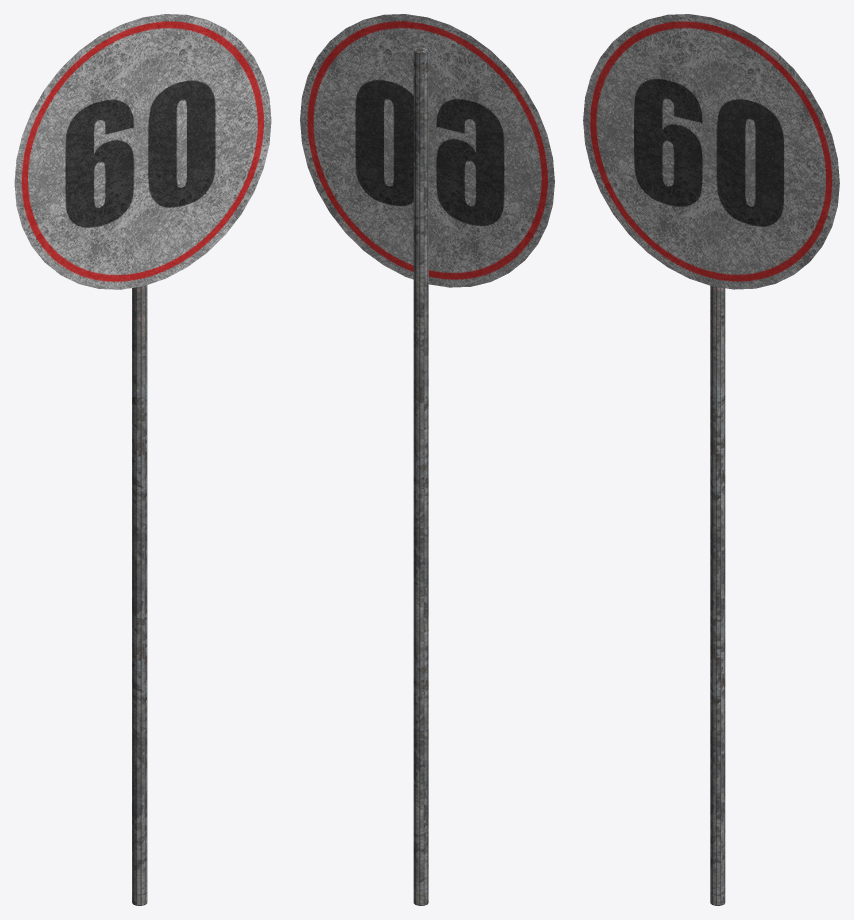
File: bienbao.fbx
The picture shows the model from 3 angles, left to right: view 1: azimuth 30°, elevation 25°; view 2: azimuth 150°, elevation 25°; view 3: azimuth 330°, elevation 25°; orthographic projection.
Parts seen in each view (by area): view 1: Object_110; view 2: Object_110; view 3: Object_110.
Boxes of the visible parts, left/top/right/bottom form: Object_110: left=14, top=14, right=271, bottom=905; Object_110: left=300, top=14, right=554, bottom=905; Object_110: left=583, top=14, right=839, bottom=905.
Size of the model in its own units: 44.43 by 147 by 2.52.
Materials: 1 (1 with a texture image).
